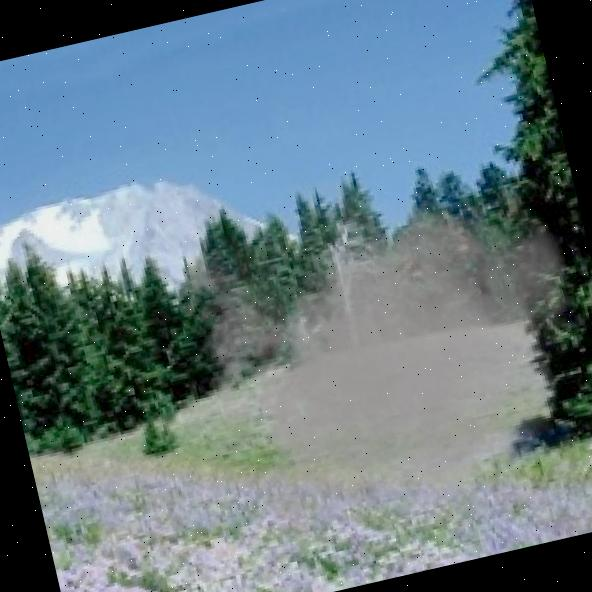smoke: (147, 112, 592, 592)
